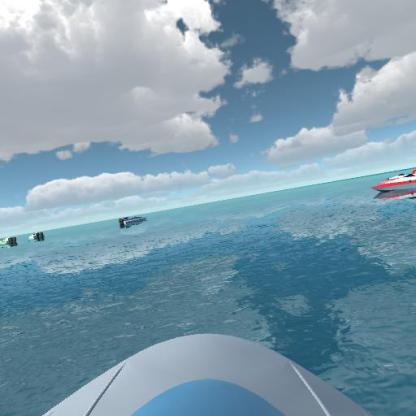usv0: (28, 229, 48, 243), (1, 233, 19, 248)
usv1: (114, 212, 154, 230)
usv3: (366, 164, 416, 198)
